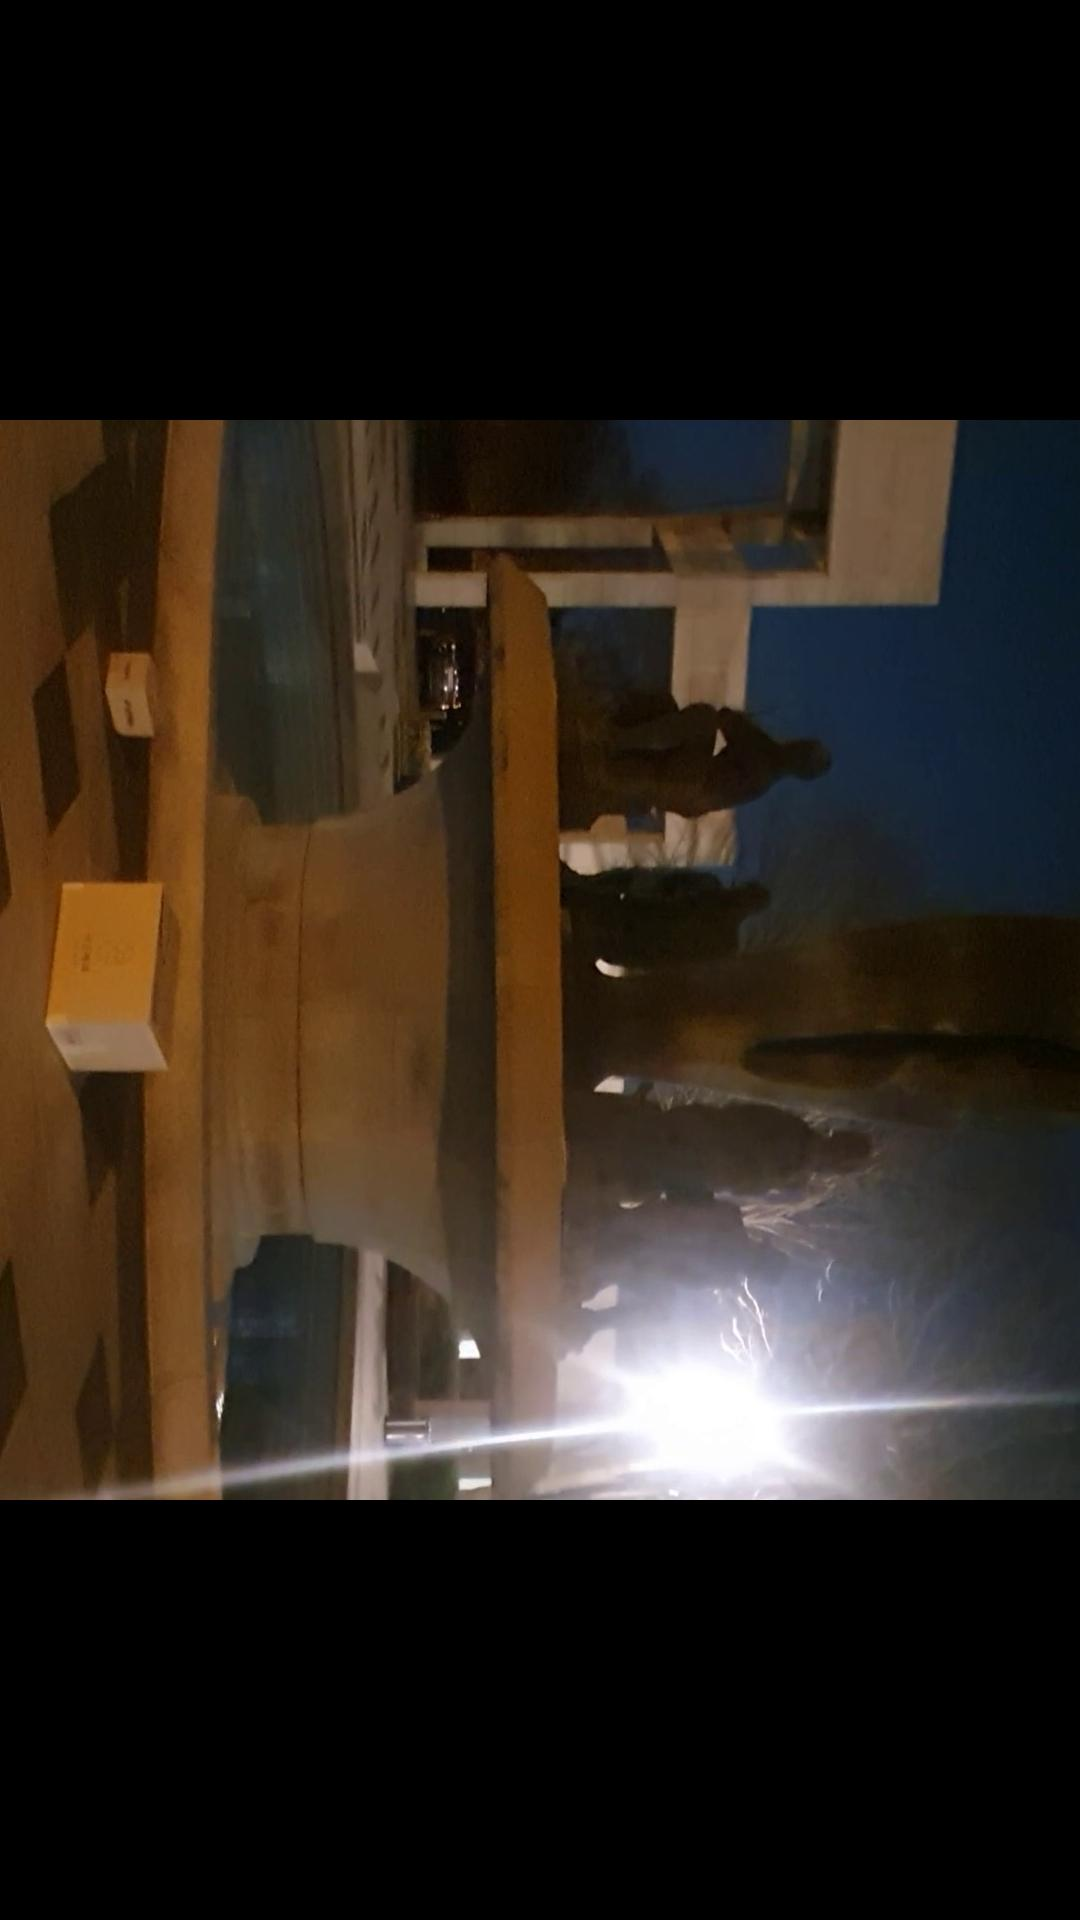Box: (42, 866, 182, 1075), (98, 628, 165, 750)
